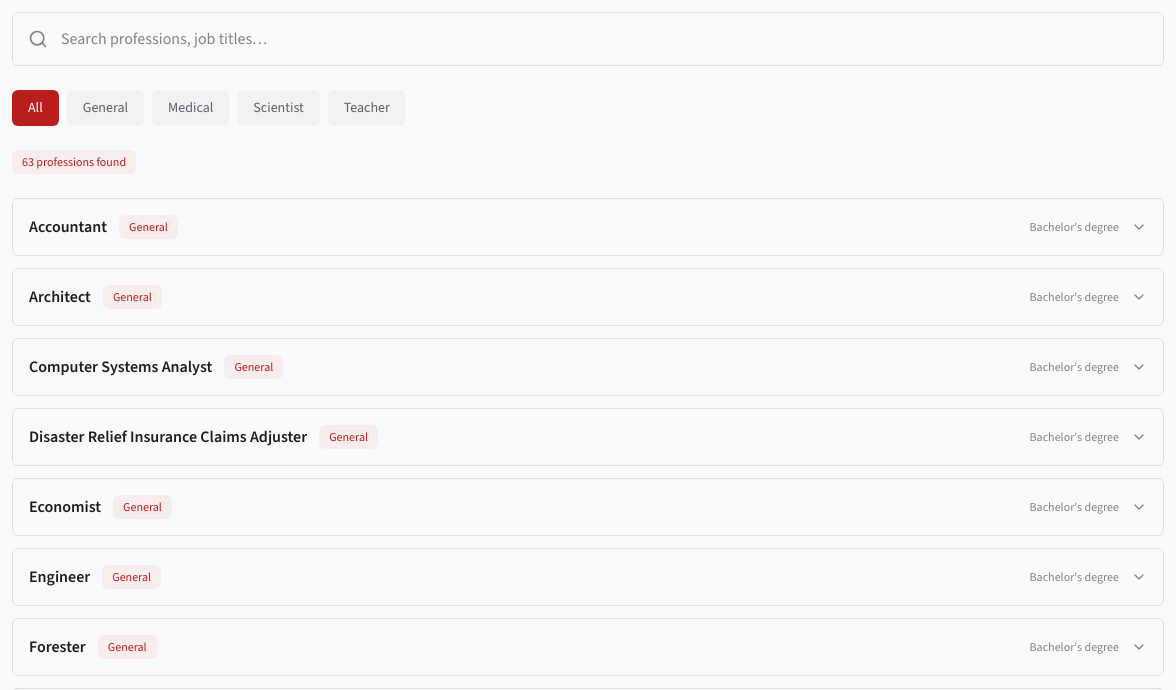
ProfessionFinder › collapses accordion on second click
Step 1. Click the button "Accountant General Bachelor's degree" → (148, 227), box [13, 199, 1163, 255]
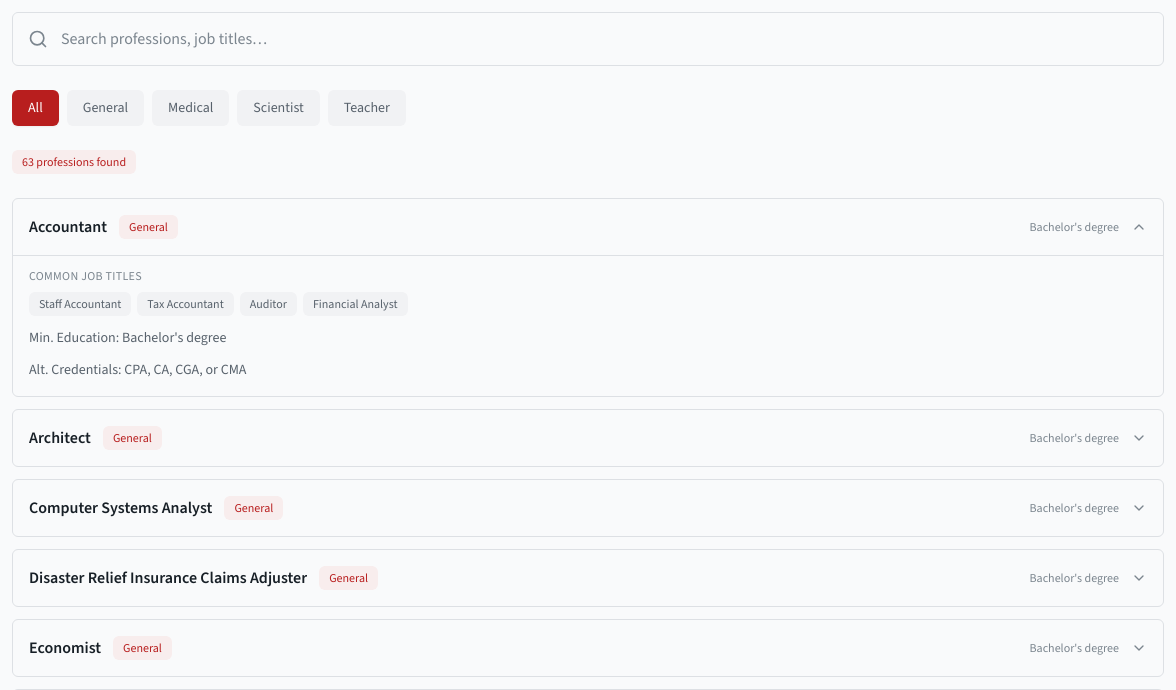
Expected: the button "Accountant General Bachelor's degree" is expanded
Step 2. Click the button "Accountant General Bachelor's degree" → (148, 227), box [13, 199, 1163, 255]
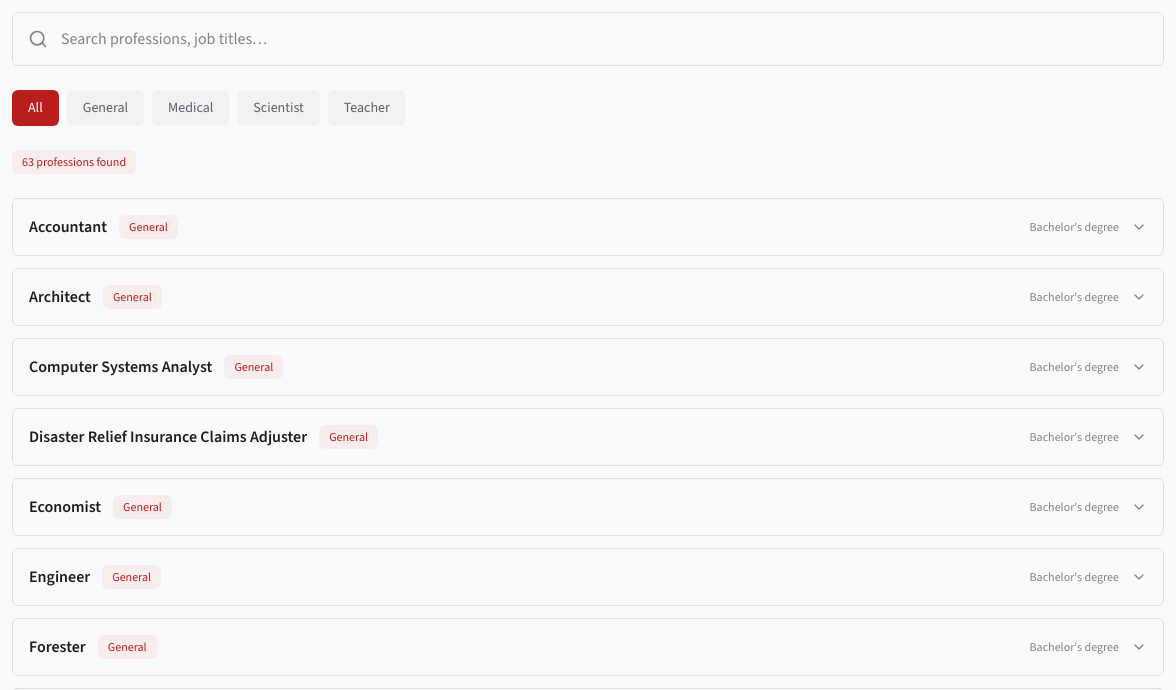
Expected: the button "Accountant General Bachelor's degree" is collapsed, [13, 199, 1163, 255]
